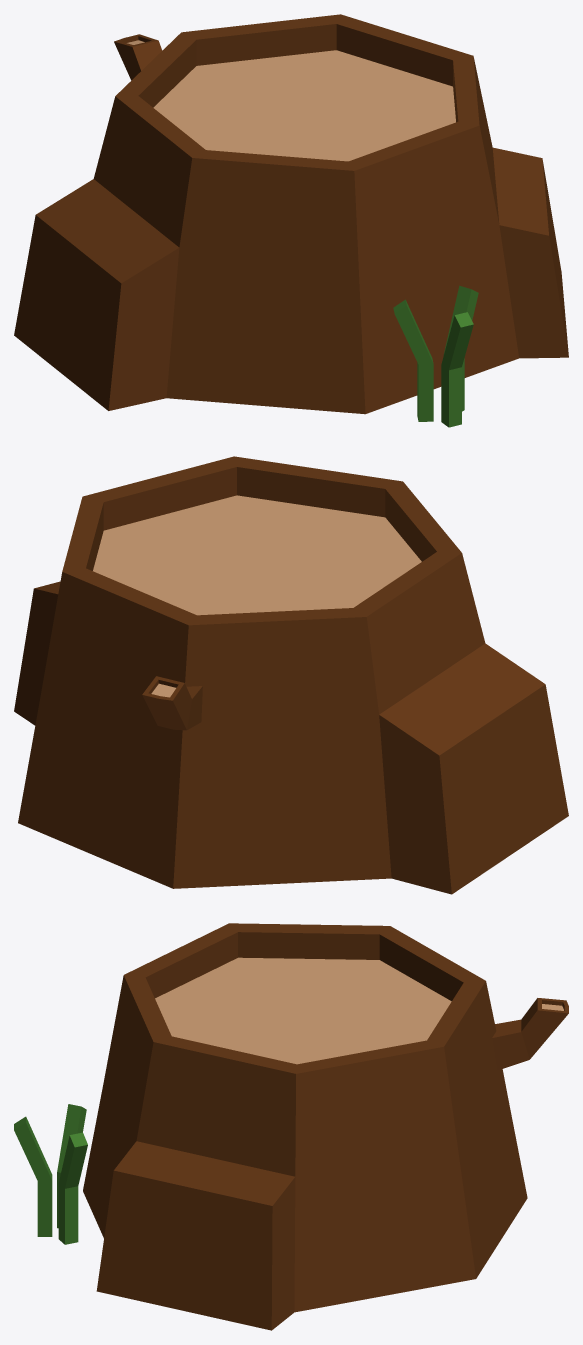
Rendered from TreeStump.glb.
3 renders of one model, top to bottom at view 1: azimuth 30°, elevation 25°; view 2: azimuth 150°, elevation 25°; view 3: azimuth 270°, elevation 25°, orthographic. The views are drawn at different scales.
Parts seen in each view (by area): view 1: TreeStump, TreeStumpCarving, Grass; view 2: TreeStump, TreeStumpCarving; view 3: TreeStump, TreeStumpCarving, Grass.
Part boxes in pixels (x1,y1,x2,y2): TreeStump: (14, 14, 568, 414); TreeStumpCarving: (127, 40, 455, 161); Grass: (393, 285, 478, 427); TreeStump: (14, 456, 568, 894); TreeStumpCarving: (93, 495, 421, 697); TreeStump: (83, 923, 568, 1330); TreeStumpCarving: (155, 957, 563, 1064); Grass: (14, 1104, 87, 1244).
Size of the model in its own units: 0.8396 by 0.3938 by 0.8556.
